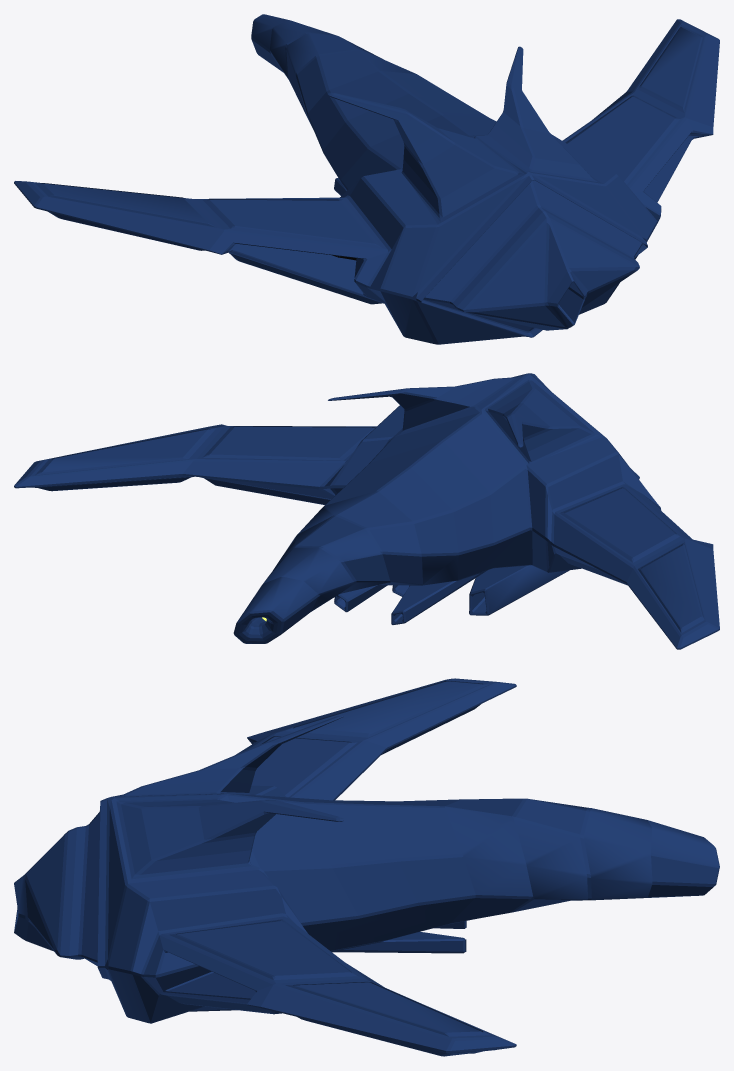
Rendered from Desvanecedor Supra Space.fbx.
3 renders of one model, top to bottom at view 1: azimuth 30°, elevation 25°; view 2: azimuth 150°, elevation 25°; view 3: azimuth 270°, elevation 25°, orthographic. The views are drawn at different scales.
Visible parts, largest first — view 1: Cubo; view 2: Cubo; view 3: Cubo.
Part boxes in pixels (left/top/right/bottom): Cubo: left=14, top=14, right=719, bottom=344; Cubo: left=14, top=373, right=719, bottom=649; Cubo: left=14, top=678, right=719, bottom=1056.
Bounding box in the file's own units: 1822 × 501 × 1463.
